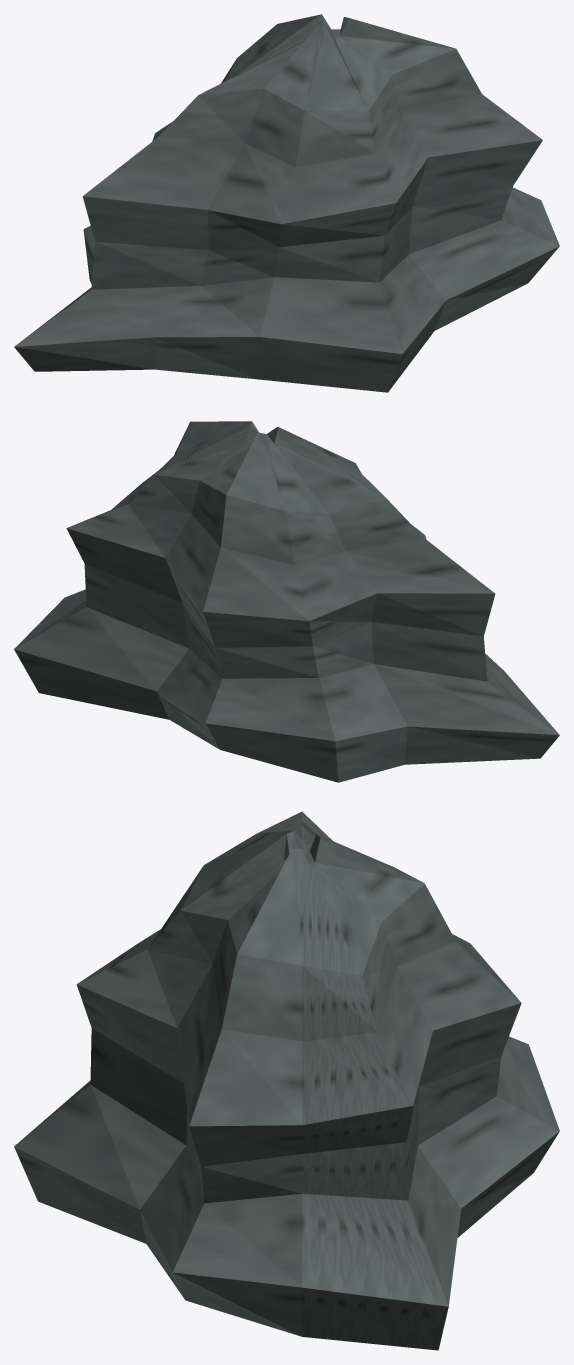
Rendered from rock-strata-v121-lod0.glb.
3 views of the same model, one above another, from view 1: azimuth 30°, elevation 25°; view 2: azimuth 150°, elevation 25°; view 3: azimuth 270°, elevation 25° (orthographic). The views are drawn at different scales.
Bounding box in the file's own units: 0.931 × 0.4916 × 0.6245.
Materials: 1 (1 with a texture image).
